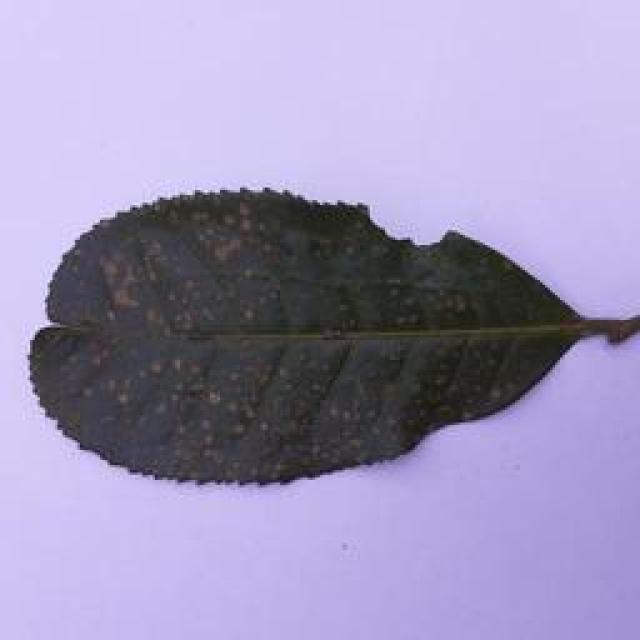Algal Leaf Spot: (18, 172, 640, 494)
